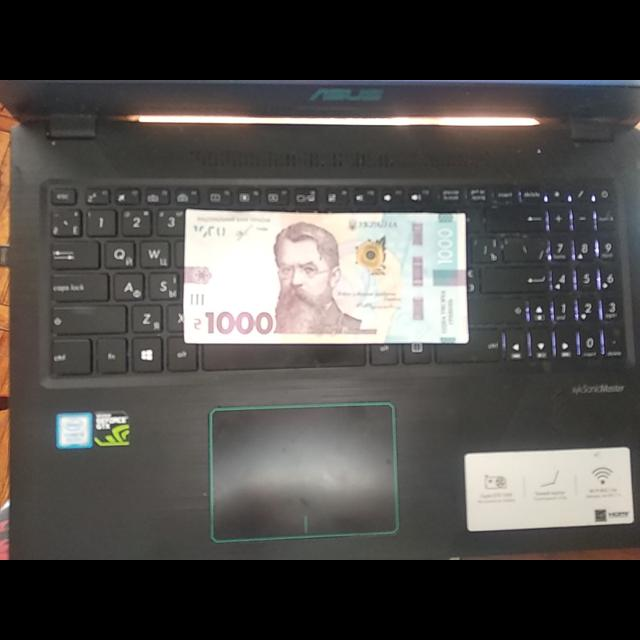1000uah: (184, 210, 468, 344)
